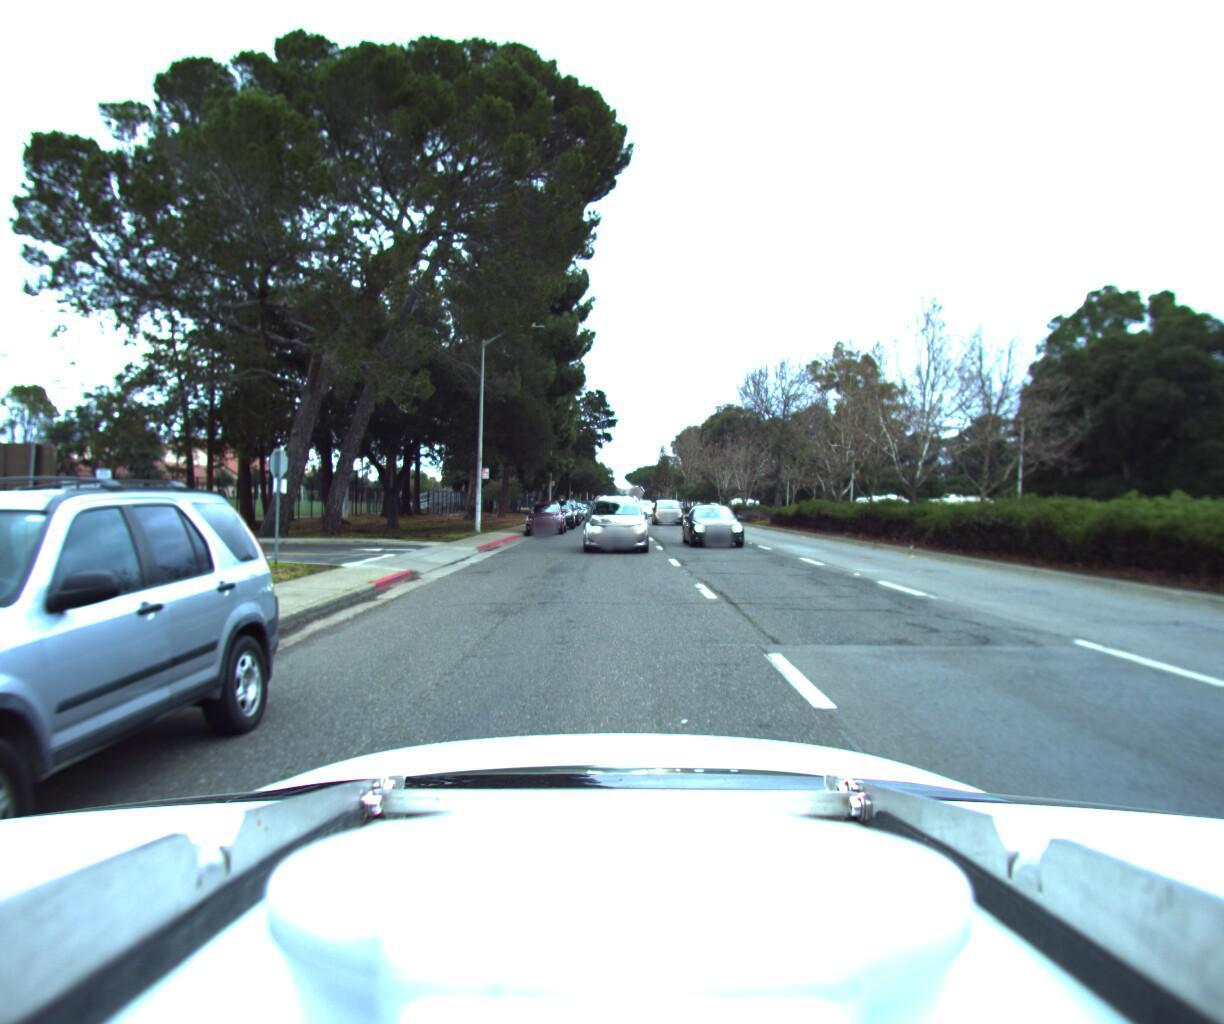car: (583, 481, 653, 546), (680, 498, 752, 545), (521, 493, 566, 530), (537, 492, 574, 524), (653, 489, 686, 519)
other_vehicle: (914, 484, 997, 529), (846, 485, 911, 525)
